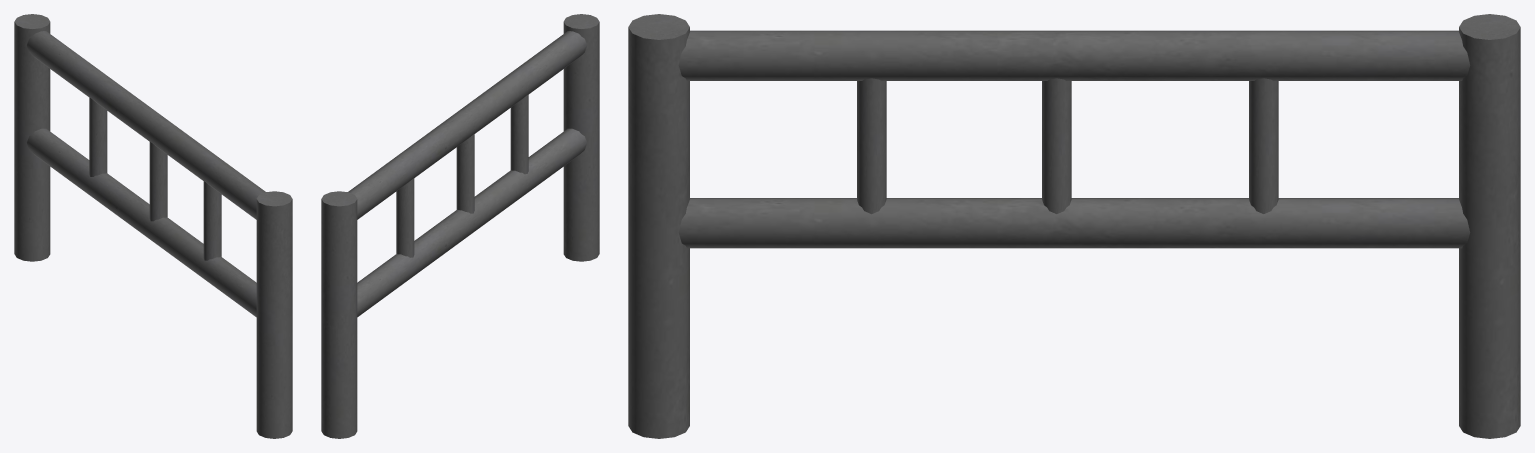
The model's file is metal fence.FBX.
3 renders of one model, left to right at view 1: azimuth 30°, elevation 25°; view 2: azimuth 150°, elevation 25°; view 3: azimuth 270°, elevation 25°, orthographic. The views are drawn at different scales.
Parts seen in each view (by area): view 1: metal fence; view 2: metal fence; view 3: metal fence.
Boxes of the visible parts, box(x1,y1,x2,y2) form: metal fence: box(14, 14, 292, 438); metal fence: box(321, 14, 599, 438); metal fence: box(628, 14, 1520, 438).
Size of the model in its own units: 1.4 by 10 by 20.27.
